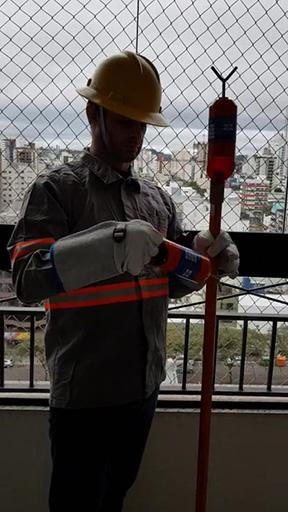Detector_Tensao_Contato: (146, 230, 230, 293), (206, 64, 239, 180)
Vara_Manobra: (194, 180, 228, 512)
